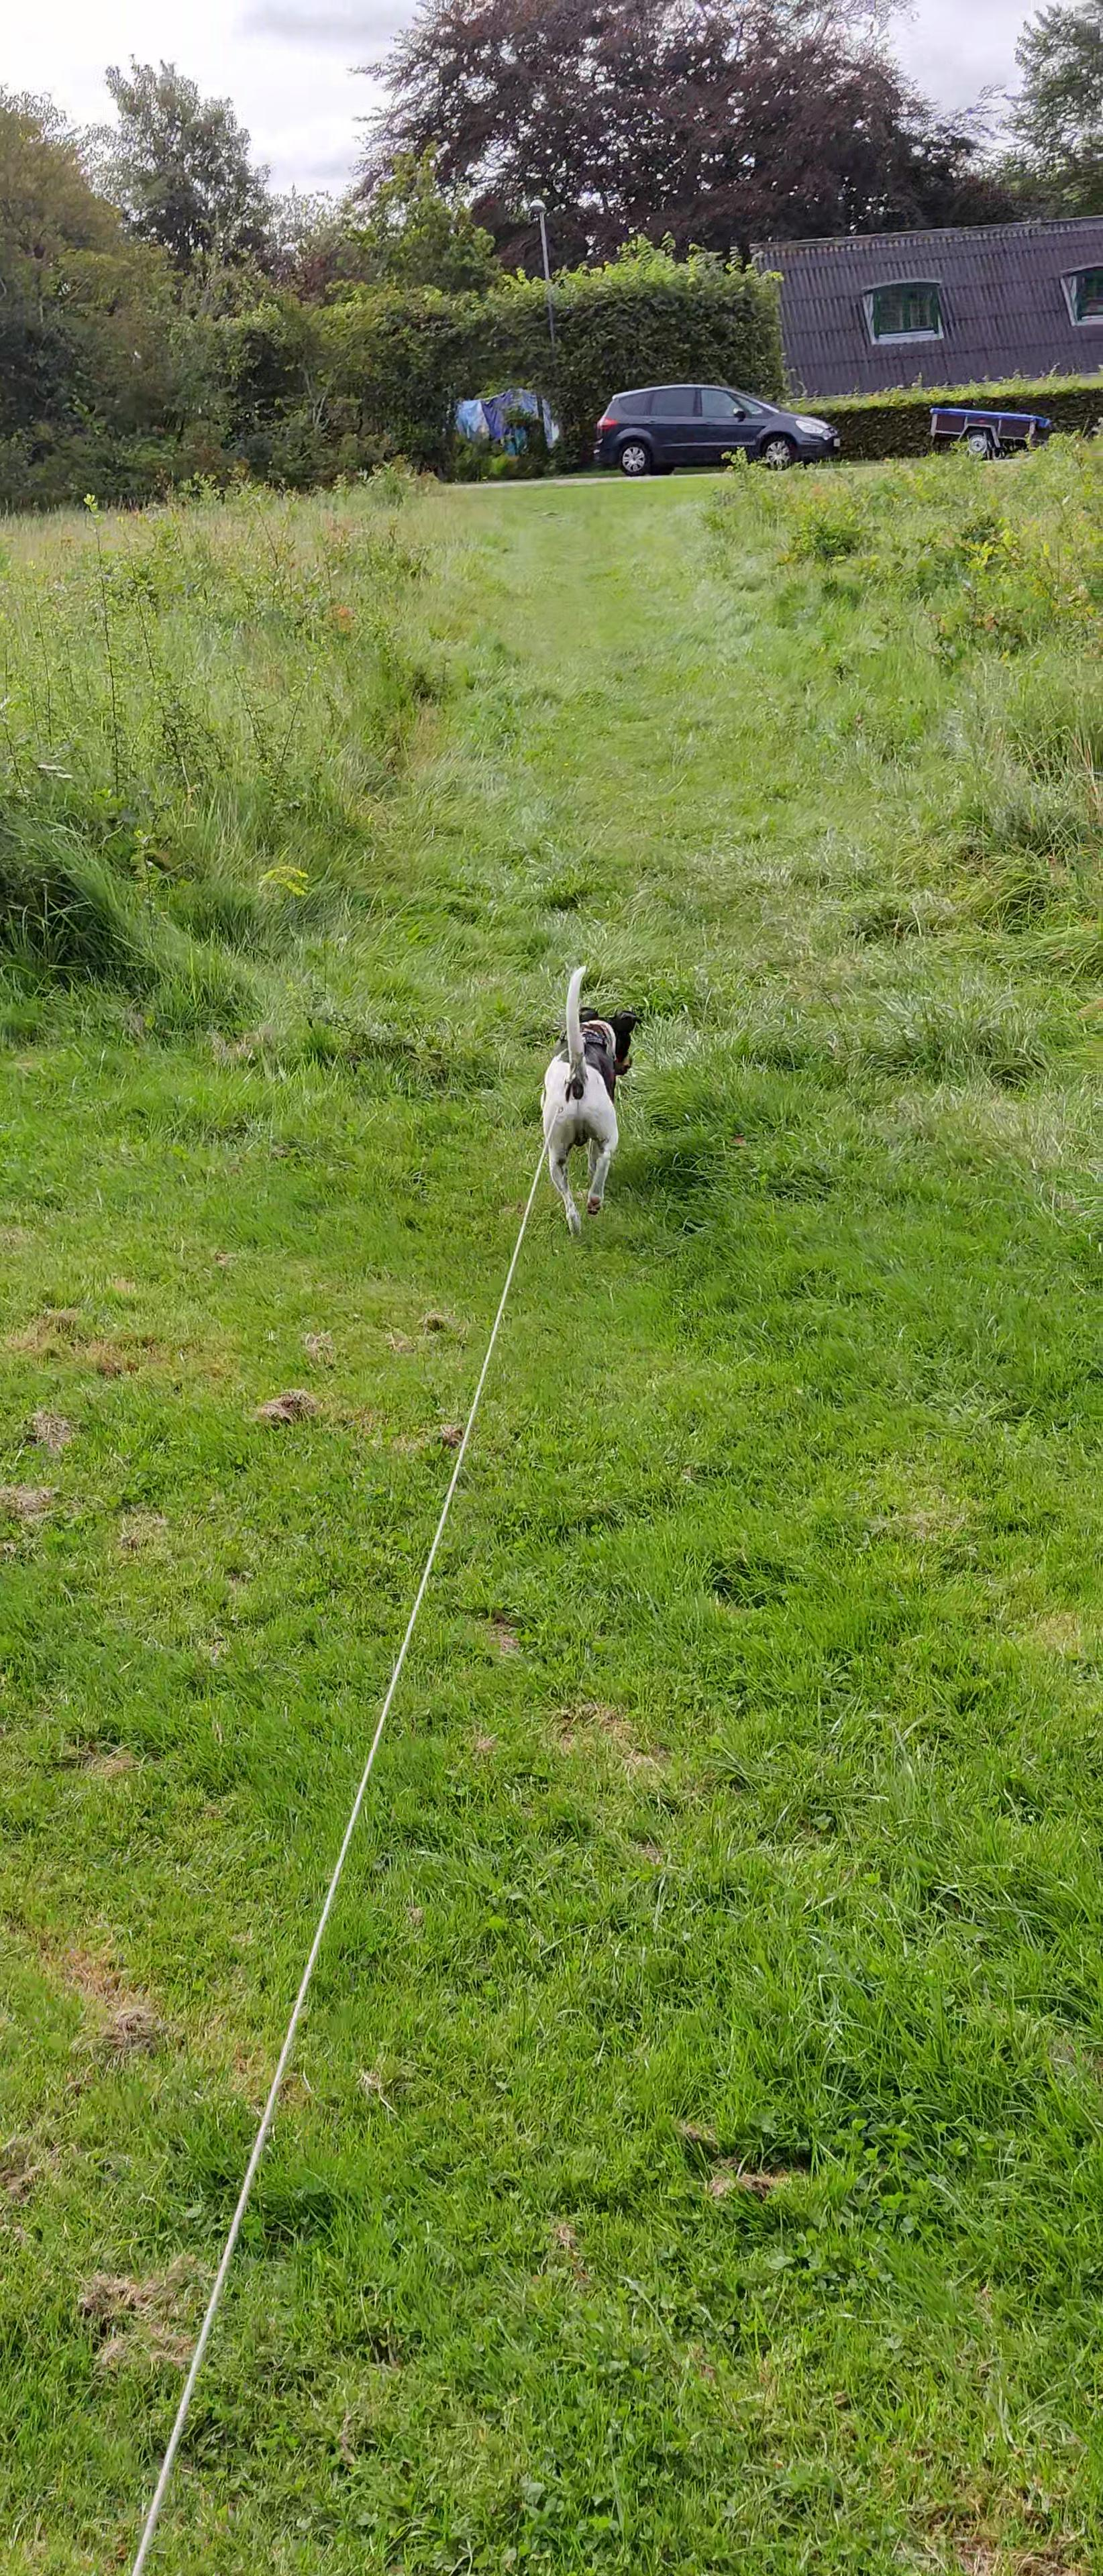Dog: (536, 958, 649, 1237)
